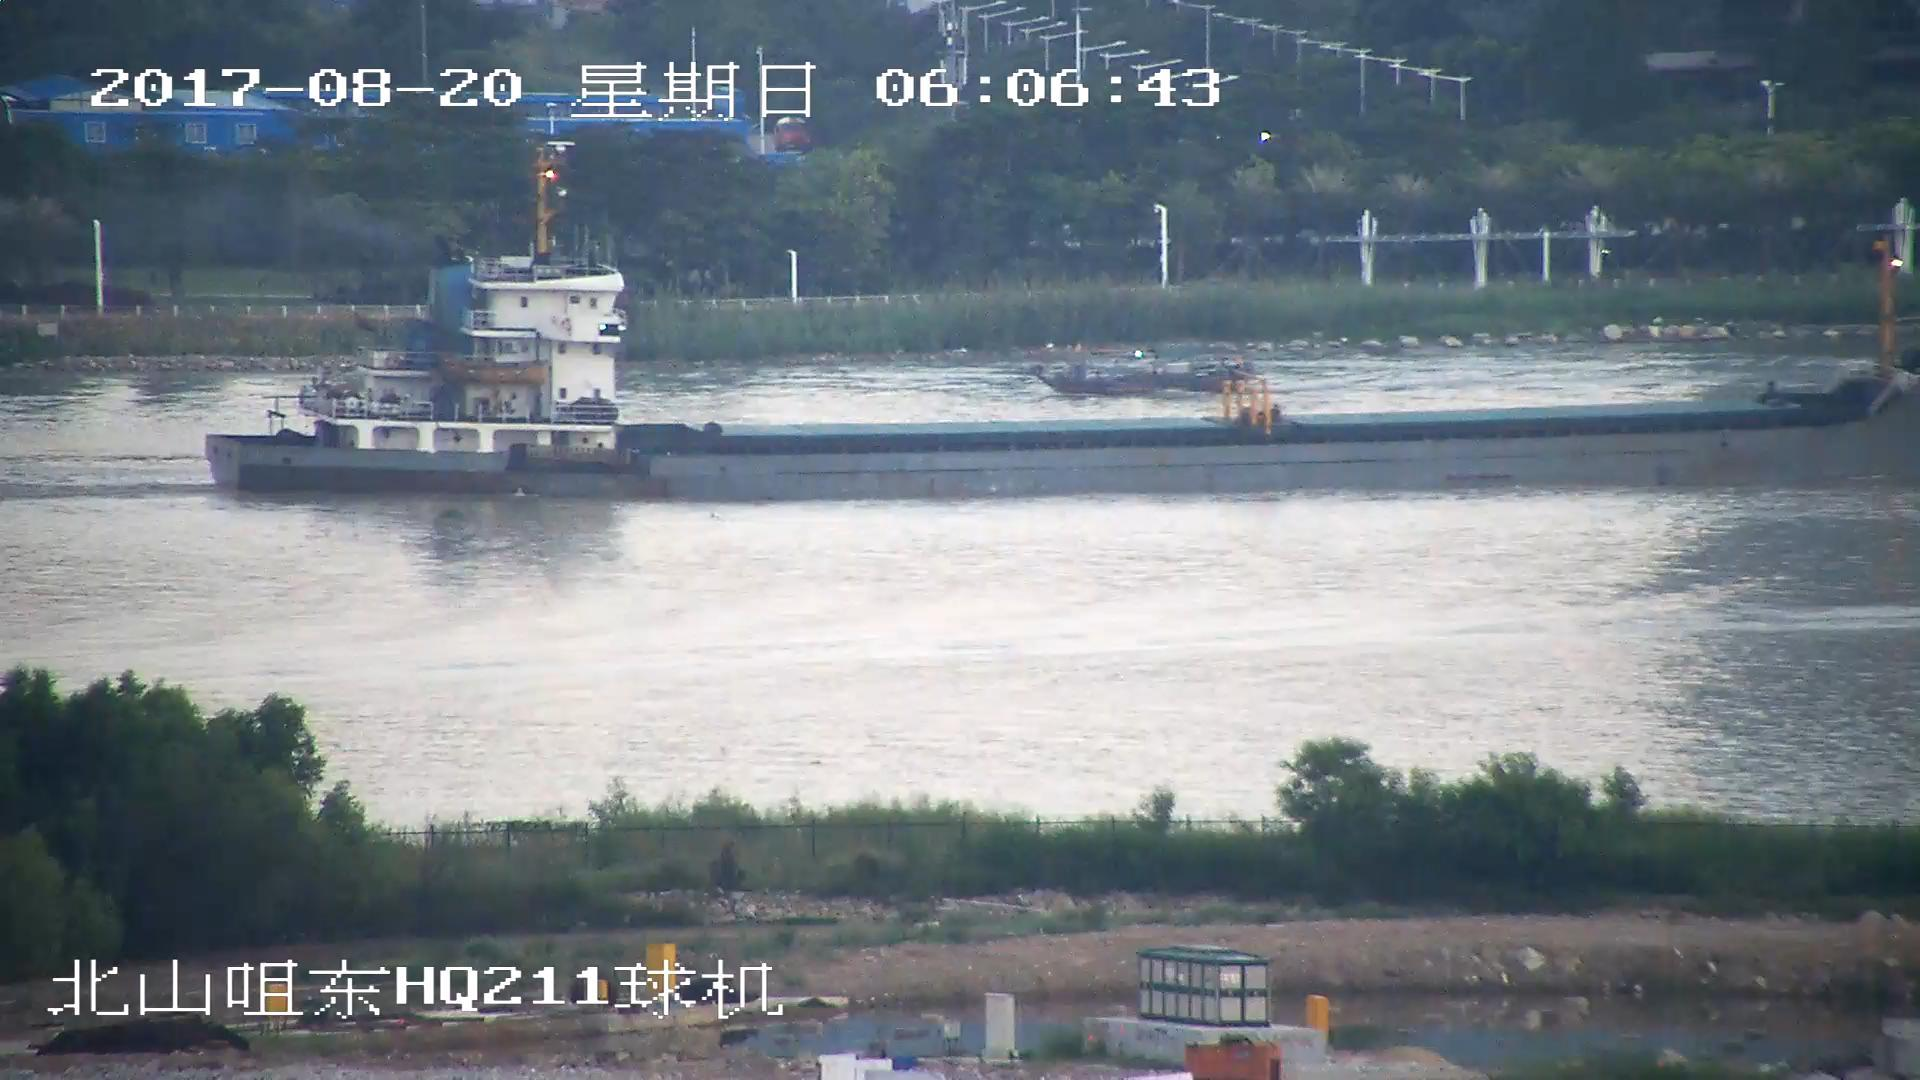Ship: (204, 208, 1920, 493), (1038, 349, 1250, 392)
